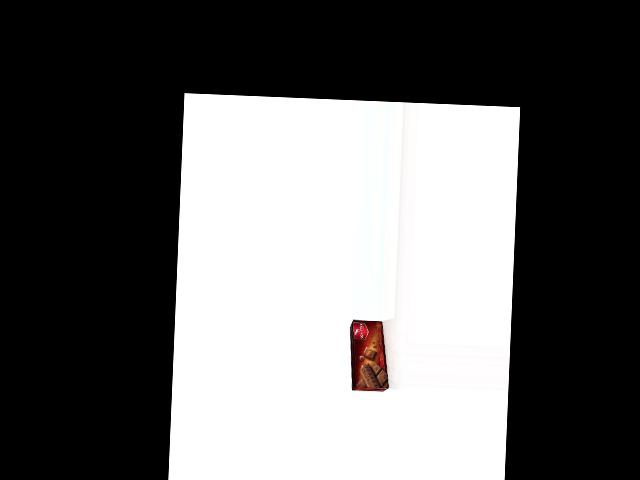chocolate: (346, 319, 392, 391)
